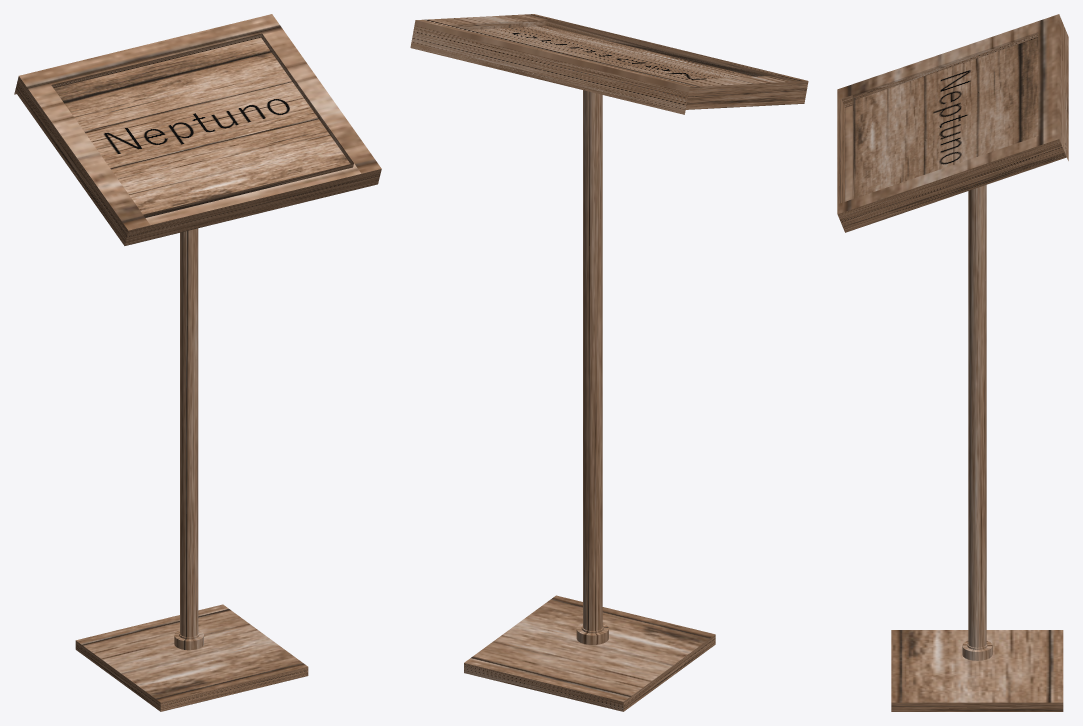
File: letreroNeptuno.obj
The picture shows the model from 3 angles, left to right: view 1: azimuth 30°, elevation 25°; view 2: azimuth 150°, elevation 25°; view 3: azimuth 270°, elevation 25°; orthographic projection. The views are drawn at different scales.
Visible parts, largest first — view 1: pCube2, pCube1, pCylinder3; view 2: pCube2, pCube1, pCylinder3; view 3: pCube2, pCube1, pCylinder3.
Part boxes in pixels (left/top/right/bottom): pCube2: left=14, top=14, right=381, bottom=245; pCube1: left=75, top=604, right=308, bottom=711; pCylinder3: left=174, top=228, right=203, bottom=650; pCube2: left=410, top=14, right=808, bottom=114; pCube1: left=464, top=595, right=715, bottom=711; pCylinder3: left=576, top=90, right=608, bottom=644; pCube2: left=837, top=14, right=1068, bottom=232; pCube1: left=891, top=630, right=1063, bottom=711; pCylinder3: left=962, top=185, right=992, bottom=660.
Size of the model in its own units: 0.4023 by 0.8949 by 0.3143.
Materials: 2 (2 with a texture image).
